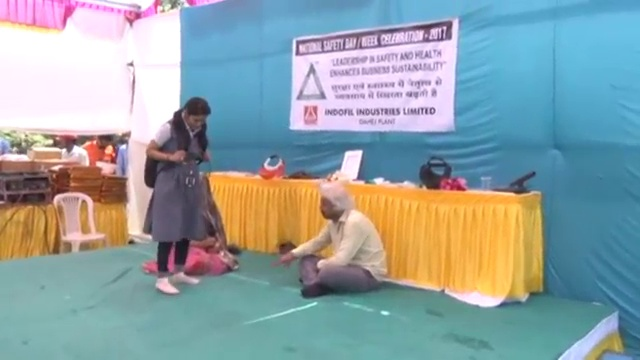helmet_off: (316, 182, 350, 219), (179, 98, 210, 132)
person: (275, 176, 393, 296), (141, 96, 211, 296), (185, 171, 239, 275), (80, 132, 116, 170), (59, 132, 90, 171), (117, 130, 132, 177)
